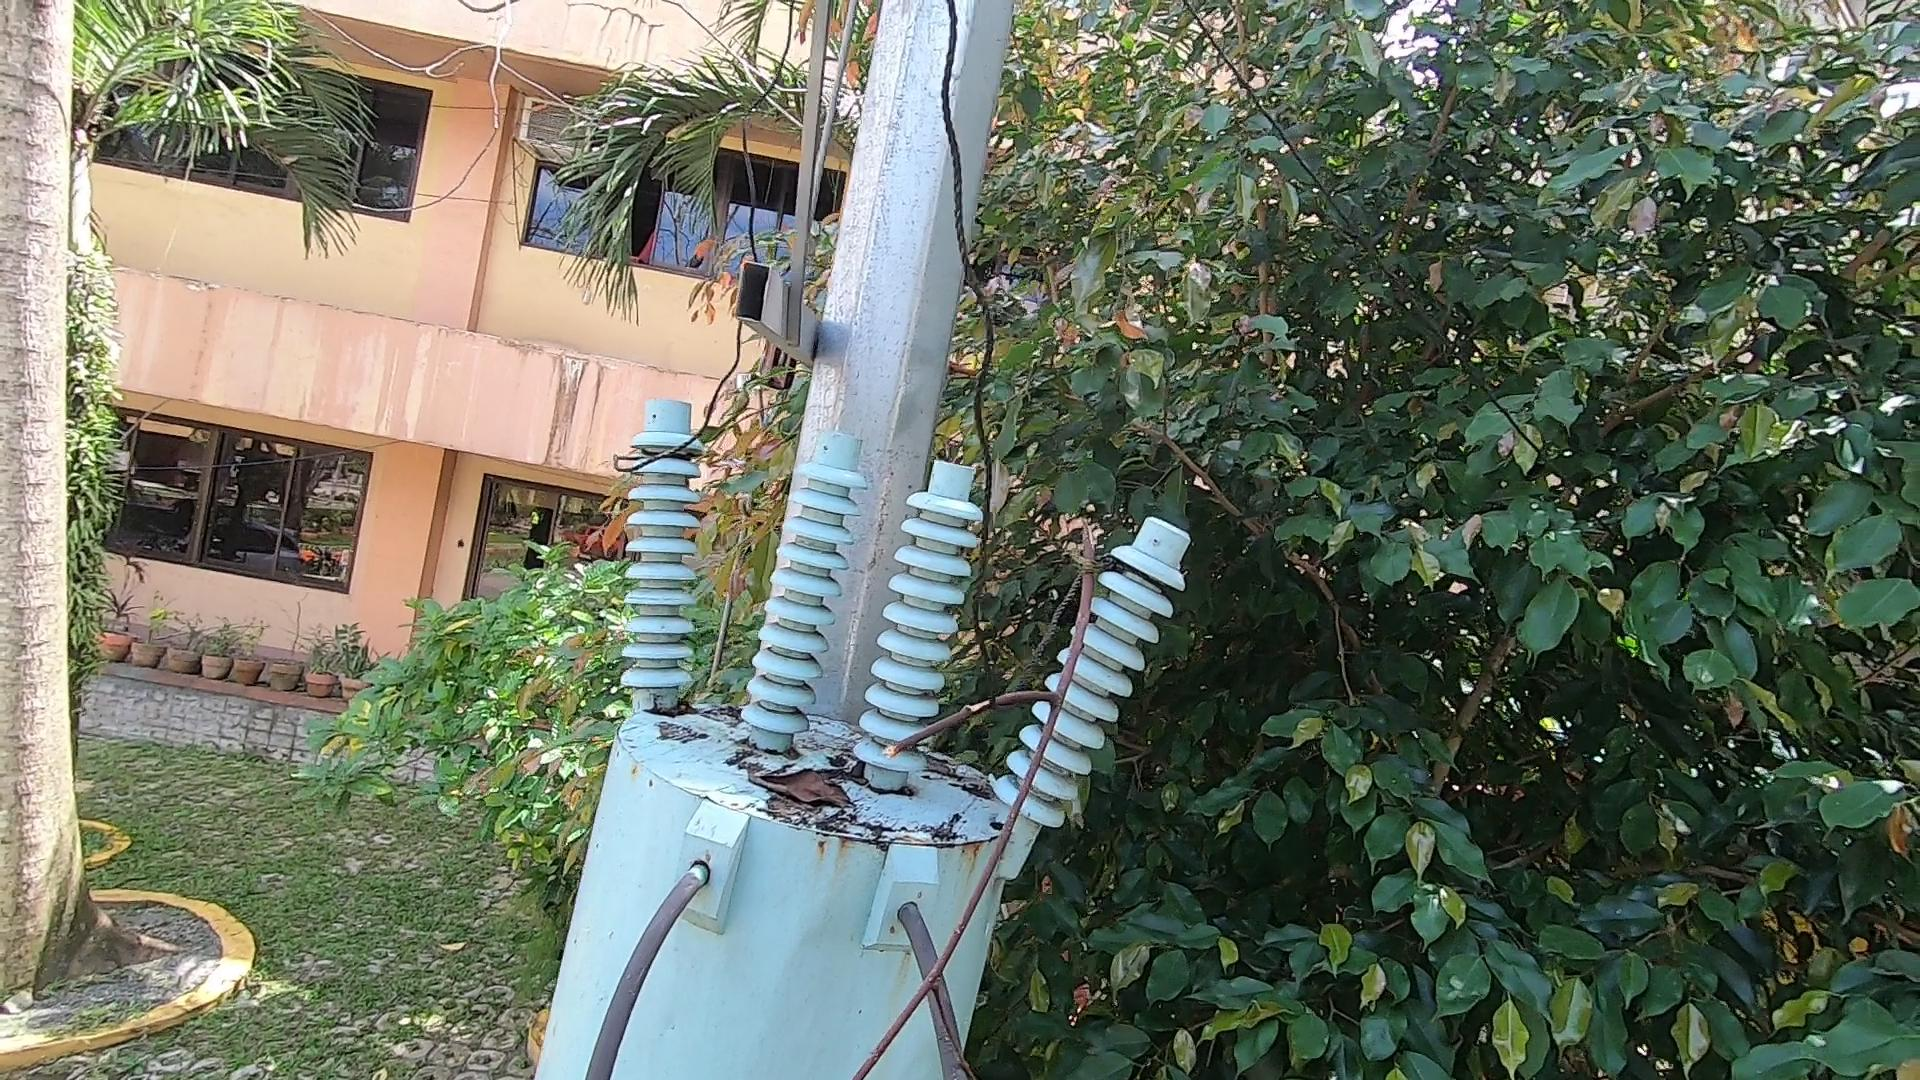leaf: (742, 764, 855, 825)
tree branch: (806, 512, 1189, 1080)
